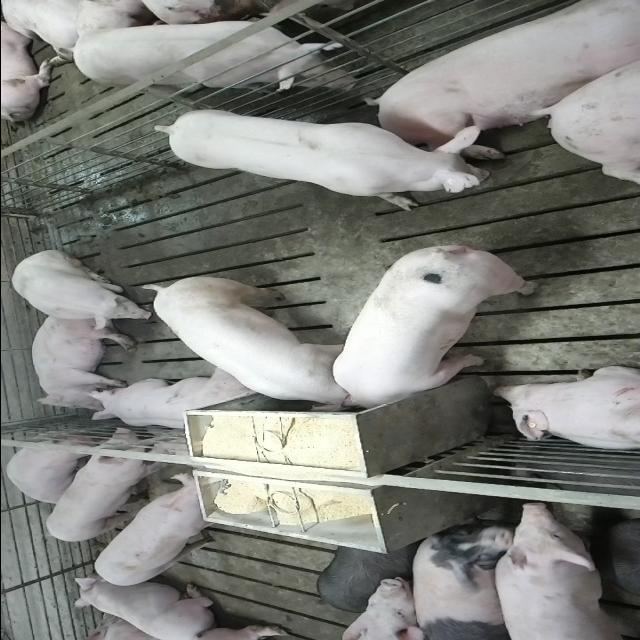Feeding: (330, 249, 540, 420), (138, 274, 360, 408)
Lateral_lying: (29, 314, 136, 412)
Sitting: (8, 250, 156, 330)
Standing: (149, 104, 506, 208), (70, 0, 392, 99), (470, 500, 640, 638), (92, 474, 235, 588), (43, 428, 167, 543), (404, 522, 514, 638), (316, 540, 420, 612)
Sternal_lying: (491, 368, 640, 455), (86, 372, 260, 432), (72, 578, 222, 638)
